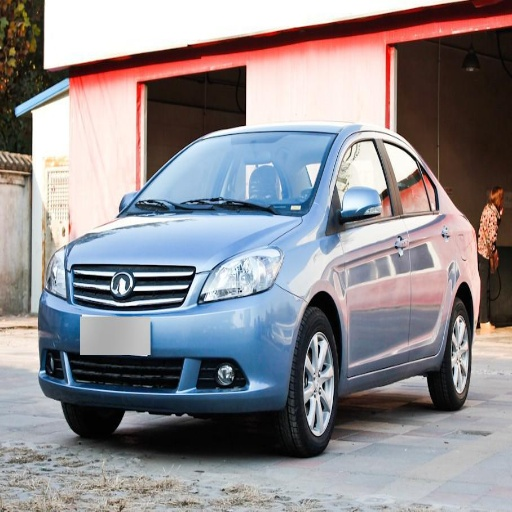front_bumper: (41, 258, 305, 415)
front_glass: (126, 132, 337, 215)
front_left_door: (331, 134, 409, 374)
